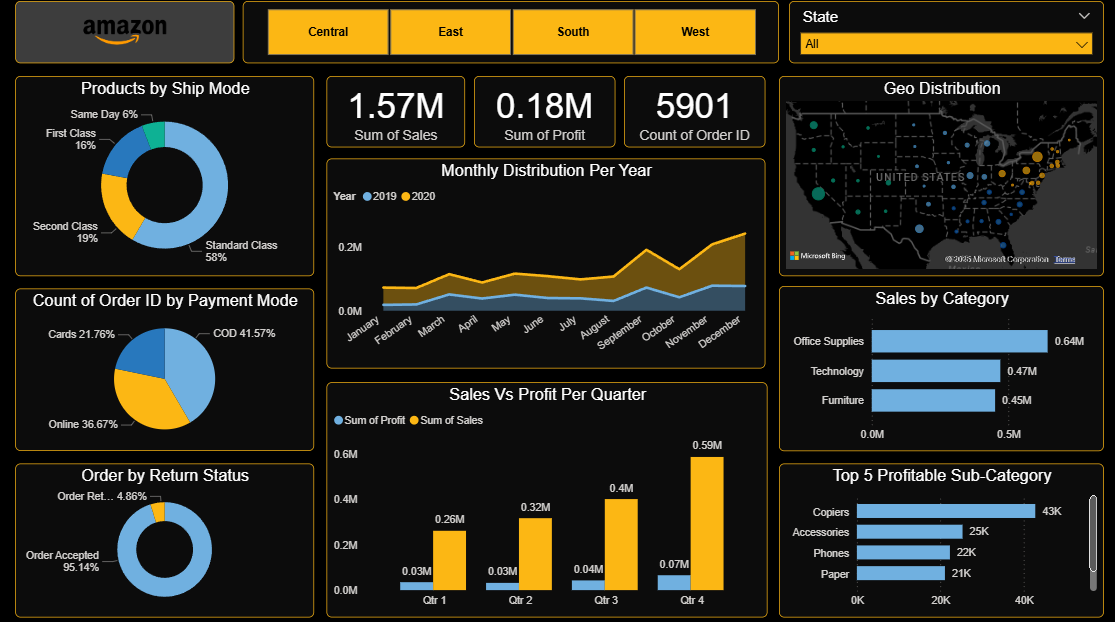

The page's visual inventory and layout, read from the dashboard file:
{"tool":"powerbi","page":{"name":"Page 1","canvas":[1280,720],"ordinal":0},"visuals":[{"type":"clusteredBarChart","title":"Sales by Category","fields":{"Category":["Amazon Store Sales Data xlsx - Sheet1 (1).Category"],"Y":["Sum(Amazon Store Sales Data xlsx - Sheet1 (1).Sales)"]},"box":[891.4,331.4,371.4,188.6],"z":0},{"type":"clusteredBarChart","title":"Top 5 Profitable Sub-Category","fields":{"Category":["Amazon Store Sales Data xlsx - Sheet1 (1).Sub-Category"],"Y":["Sum(Amazon Store Sales Data xlsx - Sheet1 (1).Profit)"]},"box":[891.4,534.3,371.4,175.7],"z":1000},{"type":"donutChart","title":"Products by Ship Mode","fields":{"Category":["Amazon Store Sales Data xlsx - Sheet1 (1).Ship Mode"],"Y":["CountNonNull(Amazon Store Sales Data xlsx - Sheet1 (1).Product ID)"]},"box":[18.6,91.4,341.4,228.6],"z":2000},{"type":"pieChart","fields":{"Category":["Amazon Store Sales Data xlsx - Sheet1 (1).Payment Mode"],"Y":["CountNonNull(Amazon Store Sales Data xlsx - Sheet1 (1).Order ID)"]},"box":[18.6,334.3,341.4,185.7],"z":3000},{"type":"donutChart","title":"Order by Return Status","fields":{"Category":["Amazon Store Sales Data xlsx - Sheet1 (1).Return Status"],"Y":["CountNonNull(Amazon Store Sales Data xlsx - Sheet1 (1).Order ID)"]},"box":[18.6,534.3,341.4,175.7],"z":4000},{"type":"stackedAreaChart","title":"Monthly Distribution Per Year","fields":{"Category":["Amazon Store Sales Data xlsx - Sheet1 (1).Order Date.Variation.Date Hierarchy.Month"],"Y":["Sum(Amazon Store Sales Data xlsx - Sheet1 (1).Sales)"],"Series":["Amazon Store Sales Data xlsx - Sheet1 (1).Order Date.Variation.Date Hierarchy.Year"]},"box":[374.3,185.7,501.4,240],"z":5000},{"type":"clusteredColumnChart","title":"Sales Vs Profit Per Quarter","fields":{"Category":["Amazon Store Sales Data xlsx - Sheet1 (1).Order Date.Variation.Date Hierarchy.Quarter"],"Y":["Sum(Amazon Store Sales Data xlsx - Sheet1 (1).Profit)","Sum(Amazon Store Sales Data xlsx - Sheet1 (1).Sales)"]},"box":[374.3,441.4,504.3,268.6],"z":6000},{"type":"map","title":"Geo Distribution","fields":{"Category":["Amazon Store Sales Data xlsx - Sheet1 (1).State"],"Size":["Sum(Amazon Store Sales Data xlsx - Sheet1 (1).Sales)"],"Series":["Amazon Store Sales Data xlsx - Sheet1 (1).Region"]},"box":[891.4,91.4,371.4,228.6],"z":7000},{"type":"slicer","fields":{"Values":["Amazon Store Sales Data xlsx - Sheet1 (1).Region"]},"box":[278.6,5.7,612.9,71.4],"z":8000},{"type":"slicer","fields":{"Values":["Amazon Store Sales Data xlsx - Sheet1 (1).State"]},"box":[902.9,5.7,360,71.4],"z":9000},{"type":"card","fields":{"Values":["Sum(Amazon Store Sales Data xlsx - Sheet1 (1).Sales)"]},"box":[374.3,91.4,158.6,81.4],"z":10000},{"type":"card","fields":{"Values":["Sum(Amazon Store Sales Data xlsx - Sheet1 (1).Profit)"]},"box":[542.9,91.4,161.4,81.4],"z":11000},{"type":"card","fields":{"Values":["CountNonNull(Amazon Store Sales Data xlsx - Sheet1 (1).Order ID)"]},"box":[714.3,91.4,161.4,81.4],"z":12000},{"type":"image","box":[18.6,5.7,250,71.4],"z":13000}]}

Visuals, with their boxes in screenshot pixels (x1, y1, x2, y2), scaled from the page's 1280x720 canvas onto the 1115x622 screenshot:
"Sales by Category" clusteredBarChart: 776,286,1100,449
"Top 5 Profitable Sub-Category" clusteredBarChart: 776,462,1100,613
"Products by Ship Mode" donutChart: 16,79,314,276
pieChart - Amazon Store Sales Data xlsx - Sheet1 (1).Payment Mode x CountNonNull(Amazon Store Sales Data xlsx - Sheet1 (1).Order ID): 16,289,314,449
"Order by Return Status" donutChart: 16,462,314,613
"Monthly Distribution Per Year" stackedAreaChart: 326,160,763,368
"Sales Vs Profit Per Quarter" clusteredColumnChart: 326,381,765,613
"Geo Distribution" map: 776,79,1100,276
slicer - Amazon Store Sales Data xlsx - Sheet1 (1).Region: 243,5,777,67
slicer - Amazon Store Sales Data xlsx - Sheet1 (1).State: 787,5,1100,67
card - Sum(Amazon Store Sales Data xlsx - Sheet1 (1).Sales): 326,79,464,149
card - Sum(Amazon Store Sales Data xlsx - Sheet1 (1).Profit): 473,79,614,149
card - CountNonNull(Amazon Store Sales Data xlsx - Sheet1 (1).Order ID): 622,79,763,149
image: 16,5,234,67
